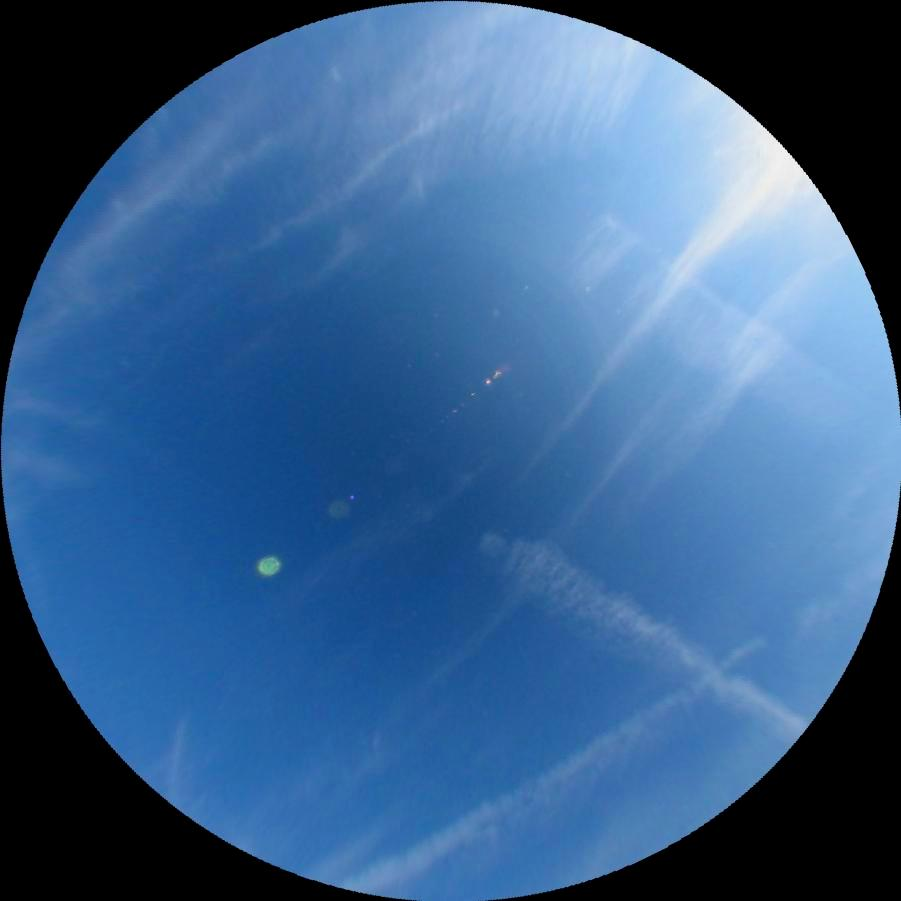contrail veryold: (464, 502, 812, 770), (550, 204, 893, 472)
